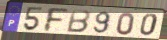0: (114, 11, 136, 36), (139, 12, 159, 37)
5: (22, 6, 44, 32)
9: (94, 10, 112, 35)
B: (65, 8, 92, 34)
F: (43, 7, 70, 34)
